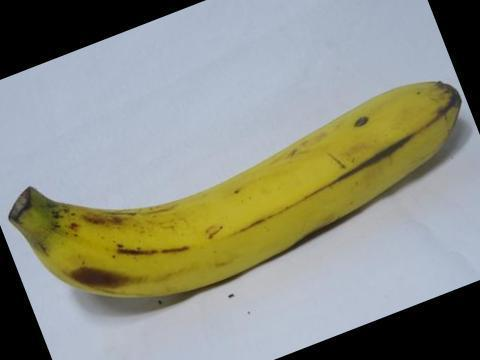ripe: (12, 70, 479, 317)
